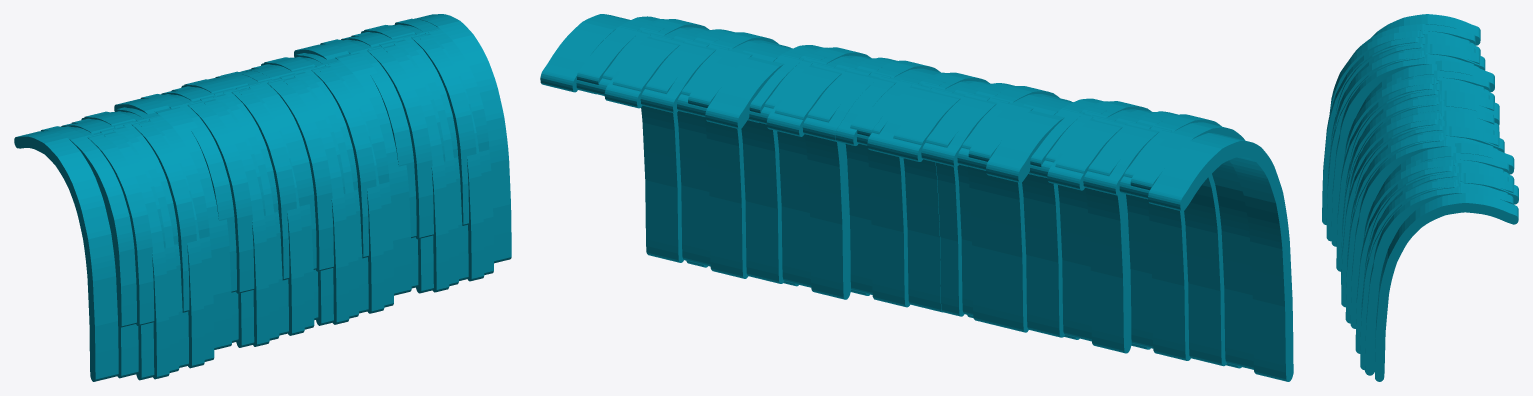
Rendered from Fantabulous Turing-Jarv (1).glb.
3 renders of one model, left to right at view 1: azimuth 30°, elevation 25°; view 2: azimuth 150°, elevation 25°; view 3: azimuth 270°, elevation 25°, orthographic. The views are drawn at different scales.
Visible parts, largest first — view 1: Mesh_Mesh_head_geo.001_lambert2SG.001; view 2: Mesh_Mesh_head_geo.001_lambert2SG.001; view 3: Mesh_Mesh_head_geo.001_lambert2SG.001.
Boxes of the visible parts, x1,y1,x2,y2 form: Mesh_Mesh_head_geo.001_lambert2SG.001: [14, 14, 511, 381]; Mesh_Mesh_head_geo.001_lambert2SG.001: [540, 14, 1293, 381]; Mesh_Mesh_head_geo.001_lambert2SG.001: [1322, 14, 1518, 381].
Size of the model in its own units: 0.093 by 0.042 by 0.041.
